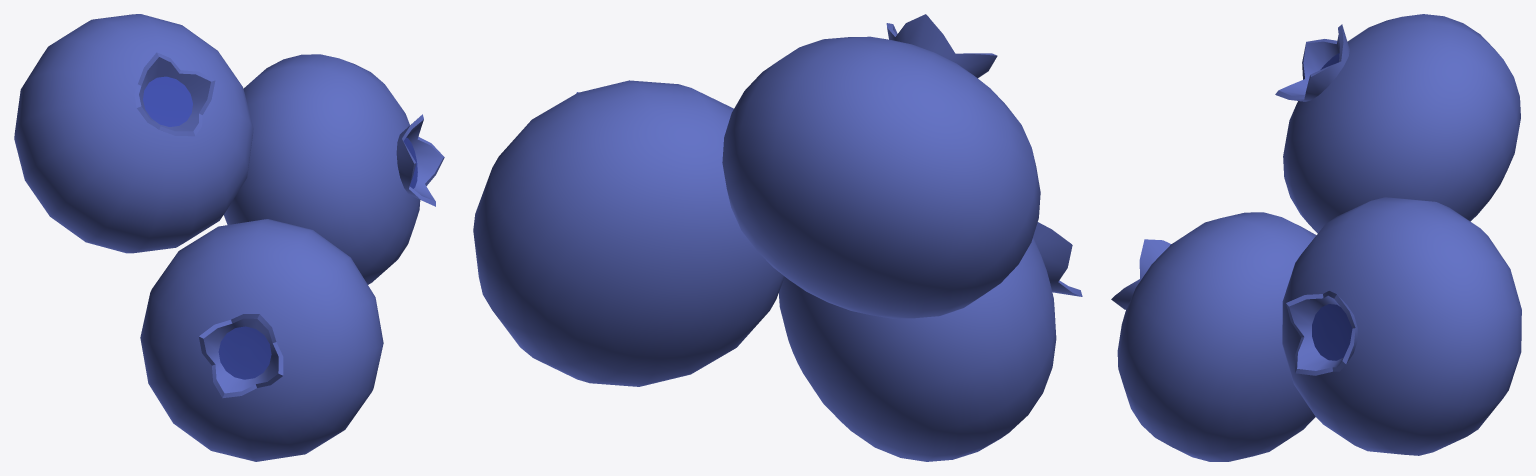
File: blueberries.gltf
3 renders of one model, left to right at view 1: azimuth 30°, elevation 25°; view 2: azimuth 150°, elevation 25°; view 3: azimuth 270°, elevation 25°, orthographic. The views are drawn at different scales.
Visible parts, largest first — view 1: Sphere.477; view 2: Sphere.477; view 3: Sphere.477.
Part boxes in pixels (x1,y1,x2,y2): Sphere.477: [14, 14, 444, 461]; Sphere.477: [473, 14, 1082, 461]; Sphere.477: [1111, 14, 1521, 461].
Bounding box in the file's own units: 2.17 × 1.99 × 1.85.
Materials: 1 (1 with a texture image).
